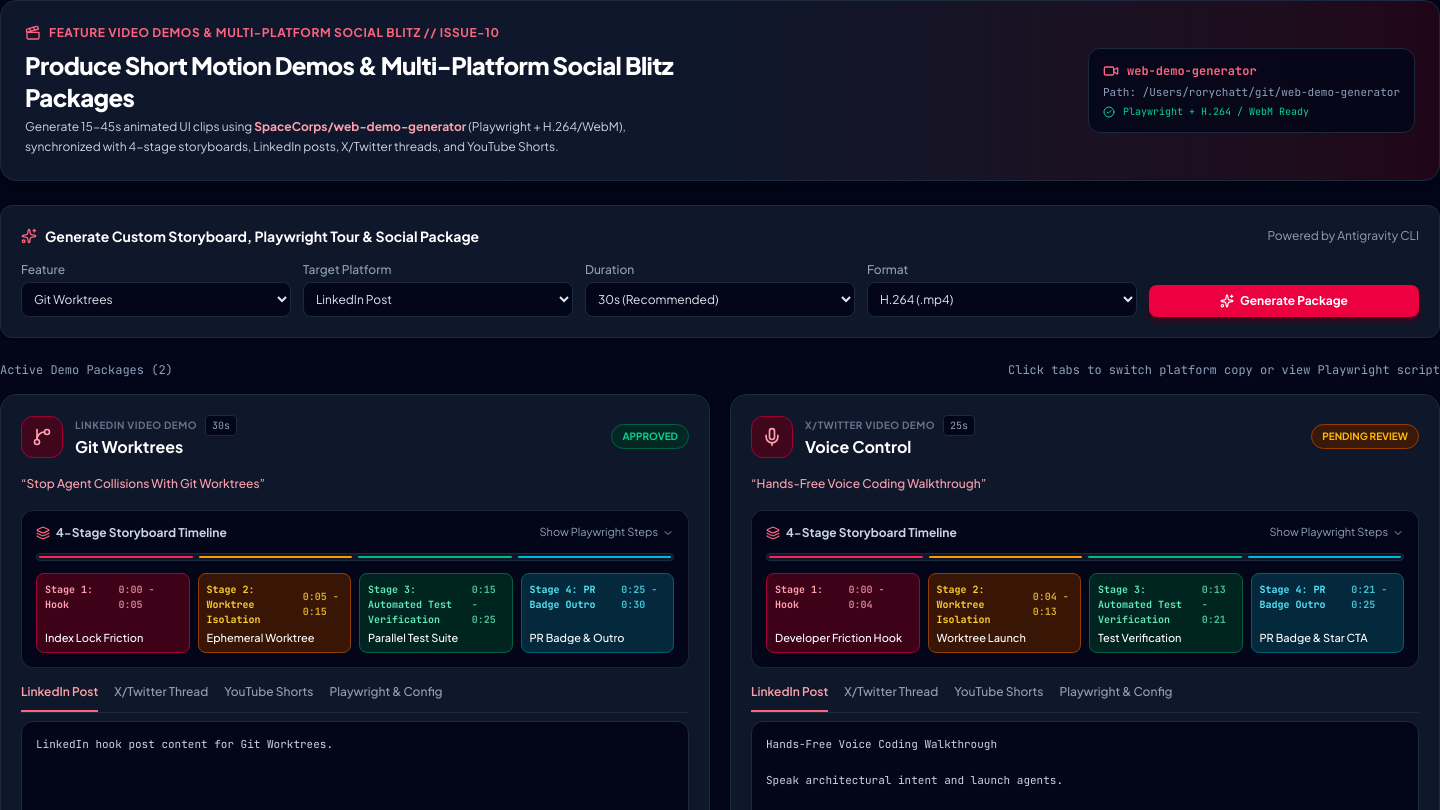
it: VideoDemos View › switches between platform copy tabs (LinkedIn, X/Twitter, YouTube Shorts, Playwright)
The image size is (1440, 810).
Expected: the text "LinkedIn hook post content for Git Worktrees." is shown, x1=36 y1=737 x2=333 y2=751
Note: Click Twitter tab
Click the tab with test id "tab-demo-test-1-twitter": (161, 698) x1=114 y1=684 x2=208 y2=712
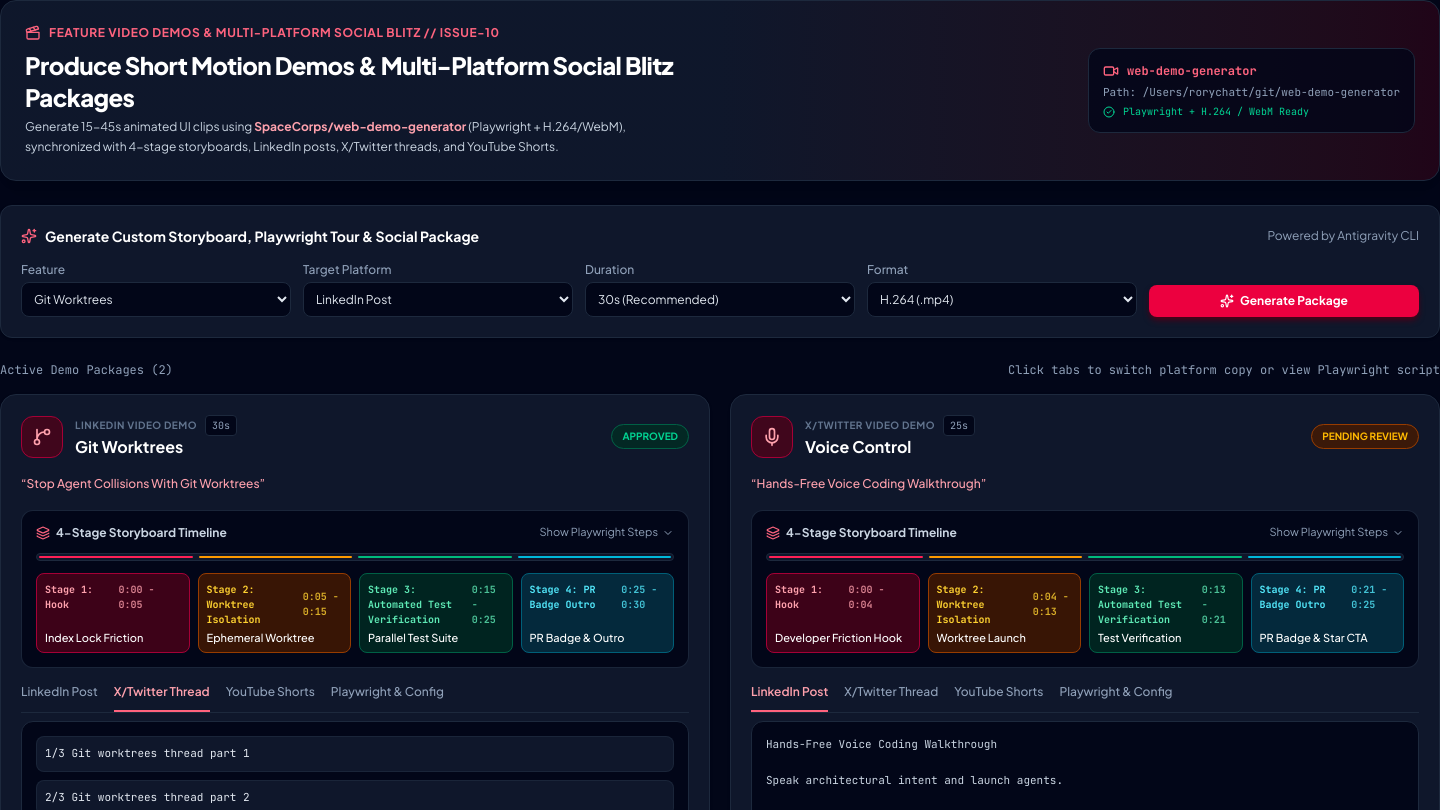
Now the text "1/3 Git worktrees thread part 1" is shown, box x1=36 y1=736 x2=674 y2=772
Note: Click YouTube tab
Click the tab with test id "tab-demo-test-1-youtube": (270, 698) x1=226 y1=684 x2=315 y2=712
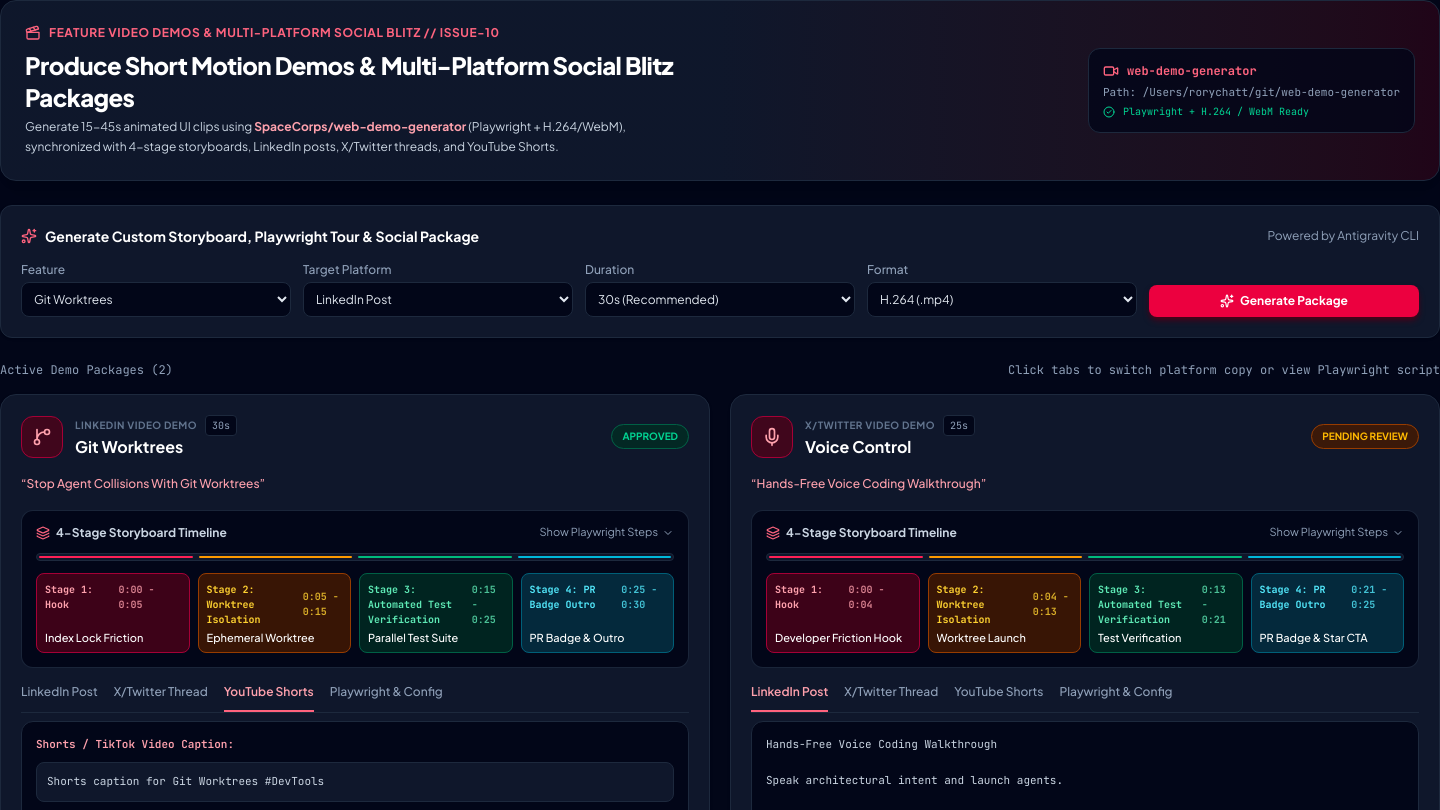
Now the text "Shorts caption for Git Worktrees #DevTools" is shown, box x1=36 y1=762 x2=674 y2=802
Note: Click Playwright tab
Click the tab with test id "tab-demo-test-1-playwright": (386, 698) x1=330 y1=684 x2=443 y2=712
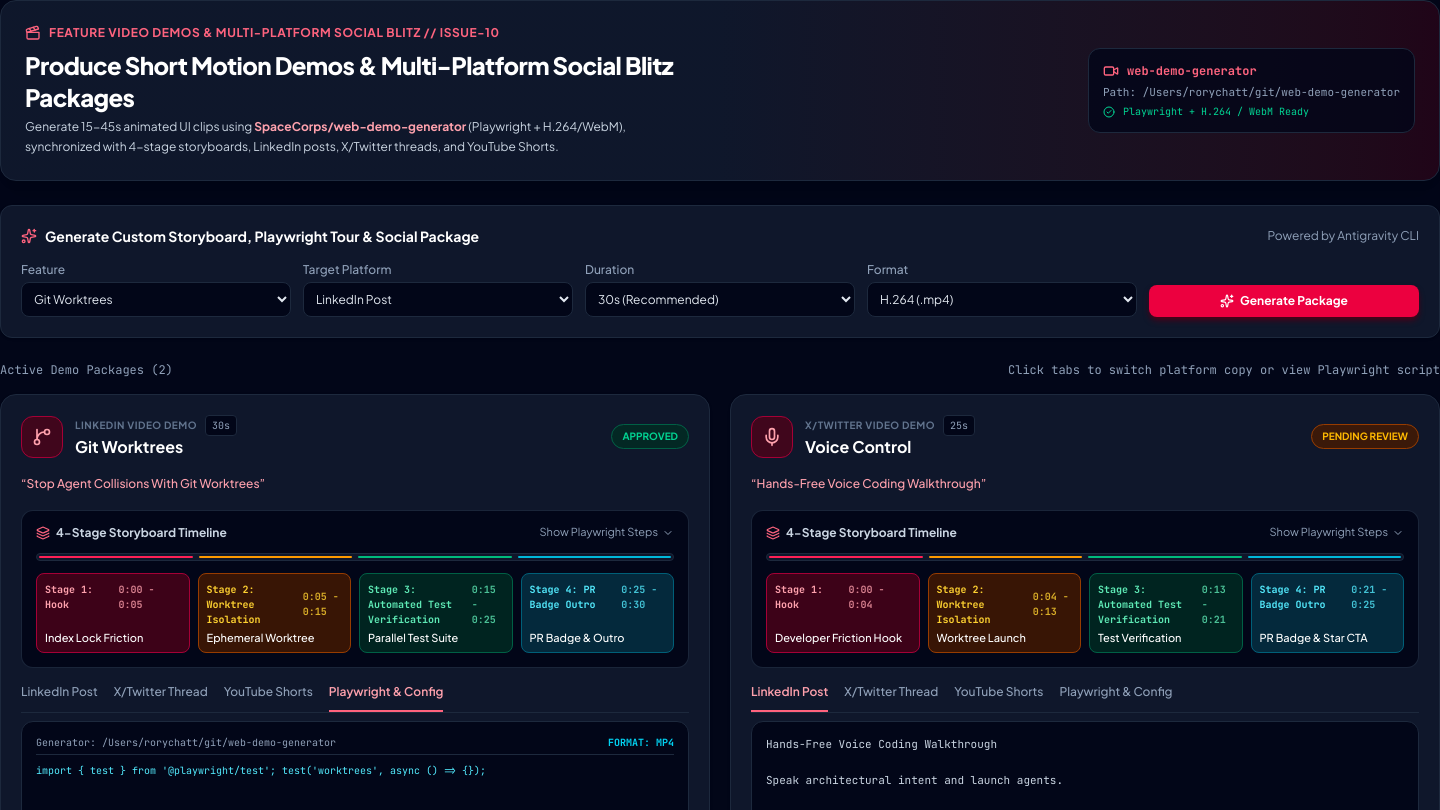
Now the text "@playwright/test" is shown, box x1=36 y1=764 x2=486 y2=777
